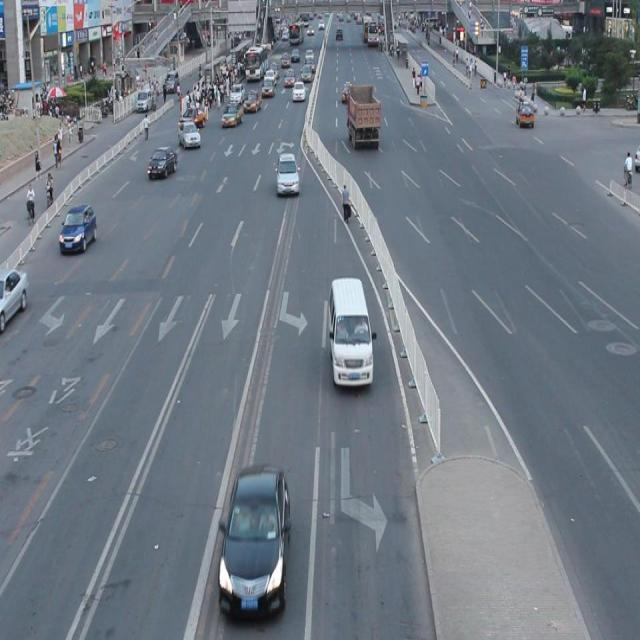car: (216, 464, 288, 618), (59, 204, 97, 254), (1, 266, 28, 327), (275, 152, 300, 196), (147, 145, 178, 180)
truck: (328, 276, 373, 386)
